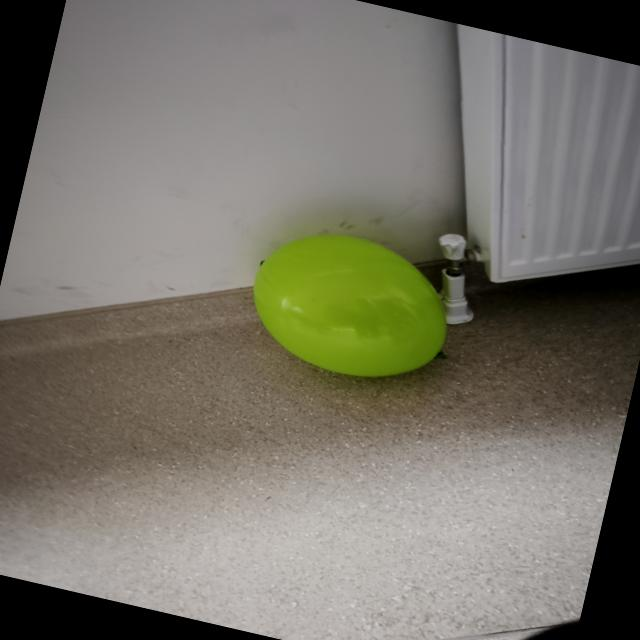balloon: (253, 235, 446, 376)
